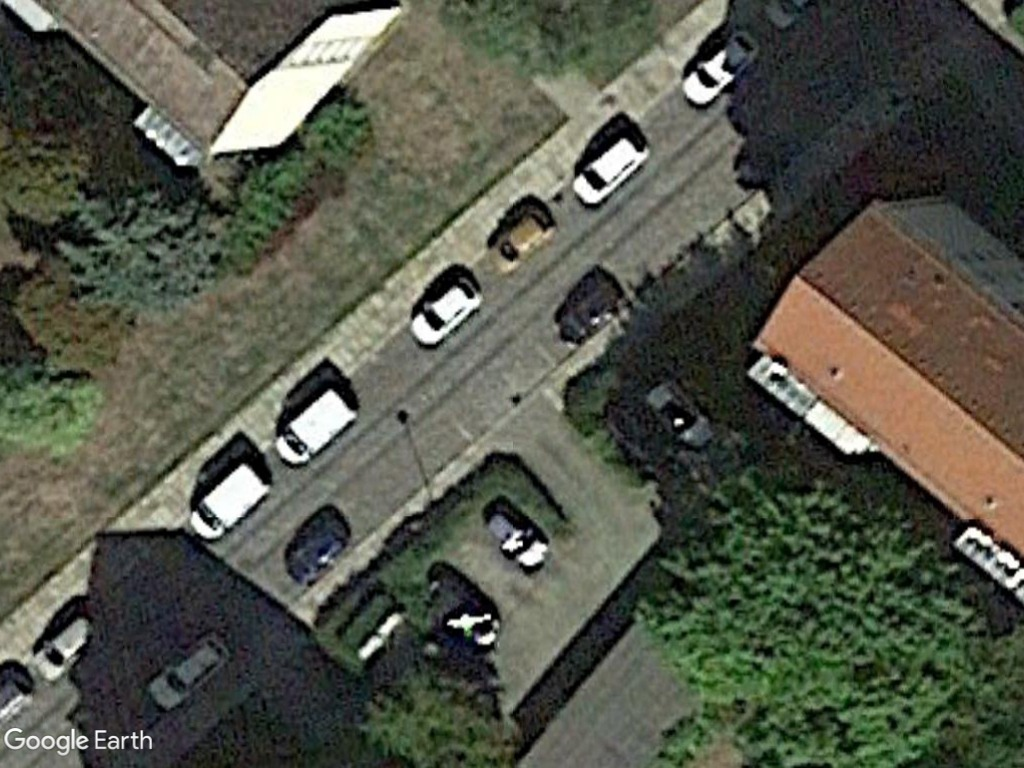car: (563, 126, 664, 215), (471, 201, 572, 282), (143, 629, 236, 714), (401, 266, 490, 352), (675, 25, 762, 111)
van: (185, 458, 276, 550), (268, 379, 360, 468)
